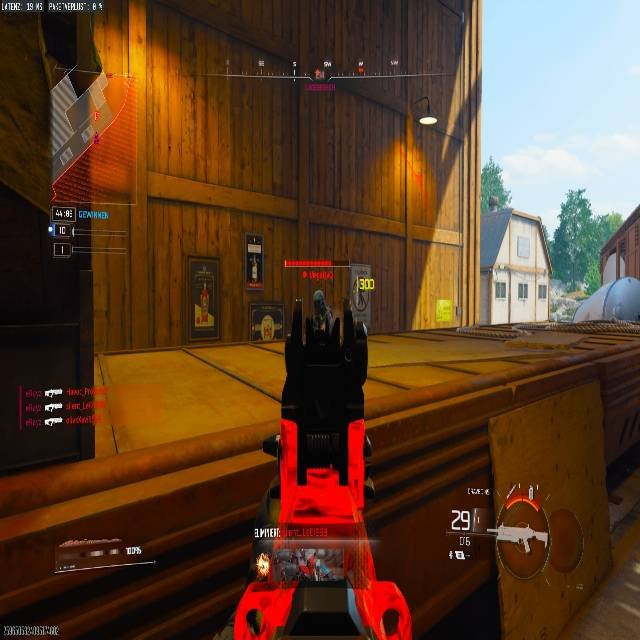head: (313, 289, 324, 304)
player: (311, 288, 333, 336)
